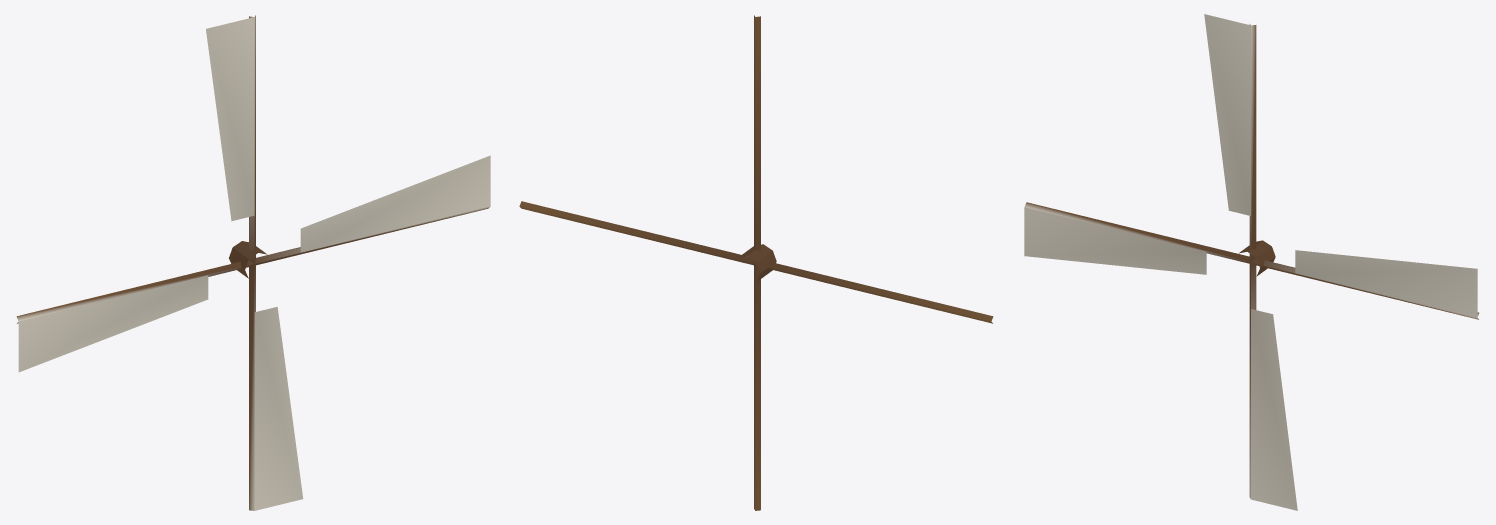
The model's file is sails_0.glb.
3 views of the same model, side by side, from view 1: azimuth 30°, elevation 25°; view 2: azimuth 150°, elevation 25°; view 3: azimuth 330°, elevation 25° (orthographic). The views are drawn at different scales.
Visible parts, largest first — view 1: sails_0; view 2: sails_0; view 3: sails_0.
Part boxes in pixels (x1=…): sails_0: x1=16, y1=15, x2=490, y2=510; sails_0: x1=519, y1=15, x2=993, y2=510; sails_0: x1=1024, y1=14, x2=1479, y2=510.
Size of the model in its own units: 9.2 by 9.2 by 0.55.
